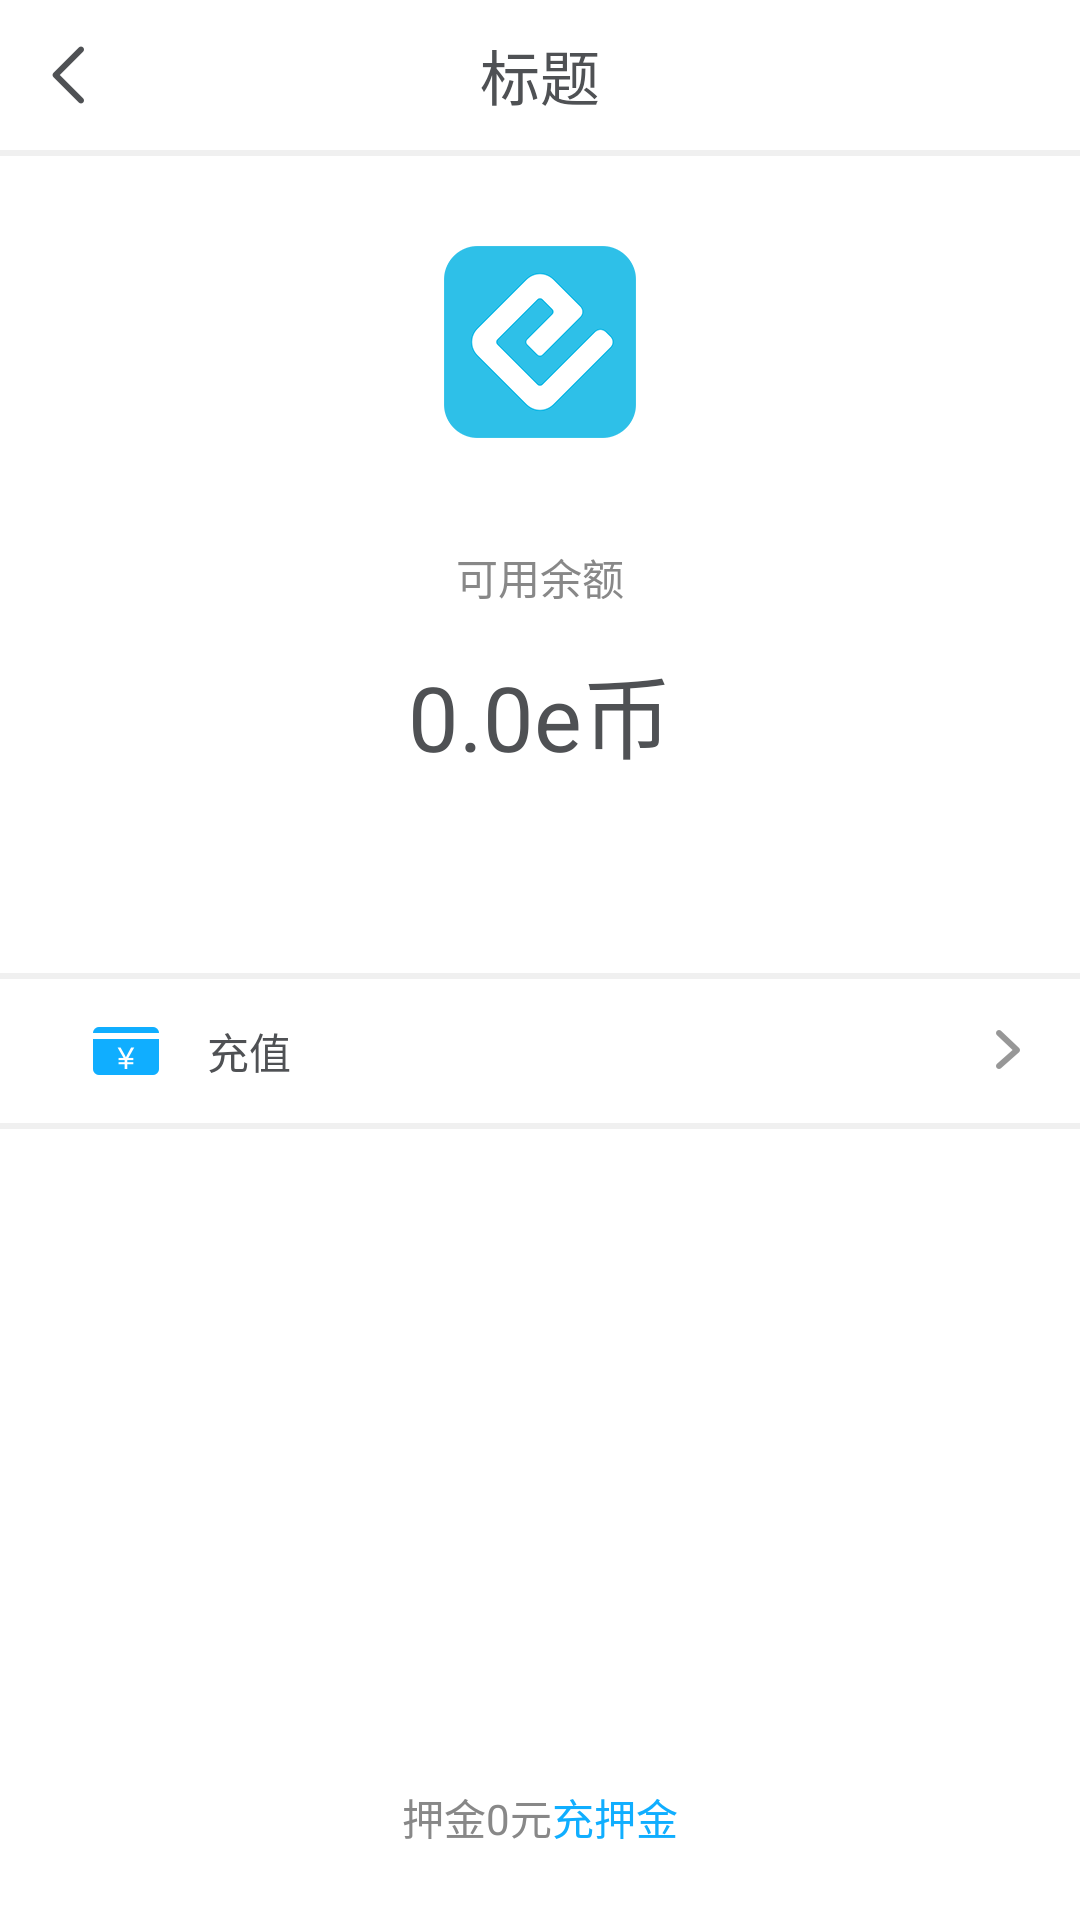

Screen size 1080w x 1920h. Icon name, then its box in pixels as BBox(x1, y1, x2, y2):
back: BBox(52, 46, 84, 104)
into: BBox(996, 1030, 1020, 1069)
wallet: BBox(93, 1027, 159, 1075)
